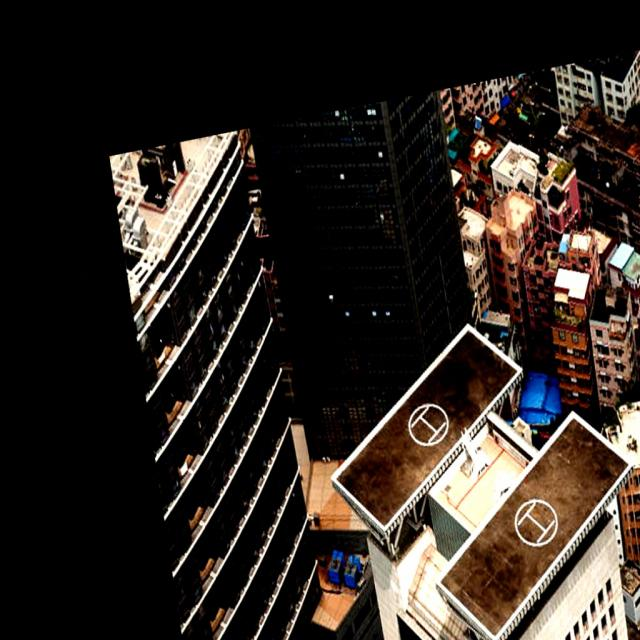helipad: (511, 498, 560, 547), (406, 400, 450, 448)
